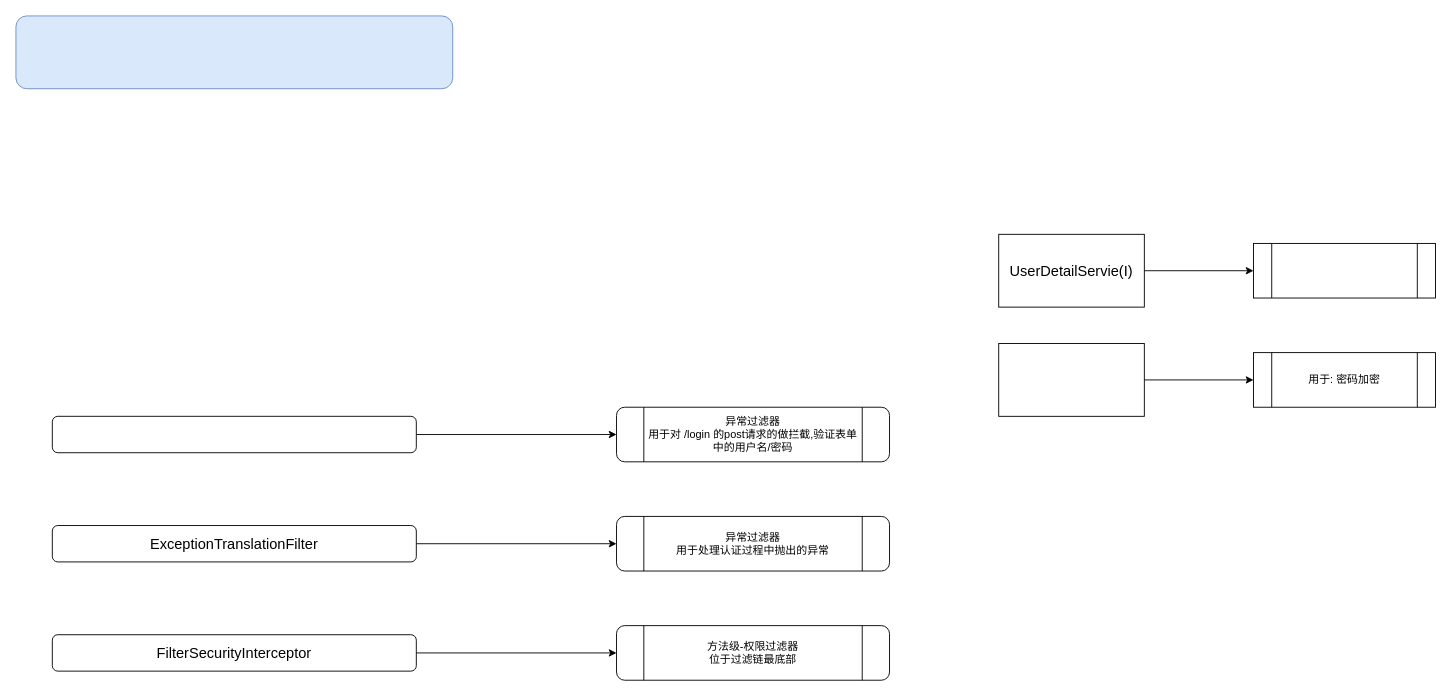
Image size: 1451x696. Some labels were removed from this diagram. Each missing label, with the box of its shape:
PasswordEncoder(I): (998, 343, 1144, 416)
SpringSecurity本质上是一个过滤器链: (15, 15, 453, 89)
UsernamePasswordAuthenticationFilter: (51, 415, 416, 453)
用于: 自定义查询数据库中用户名密码验证逻辑: (1253, 243, 1436, 298)
